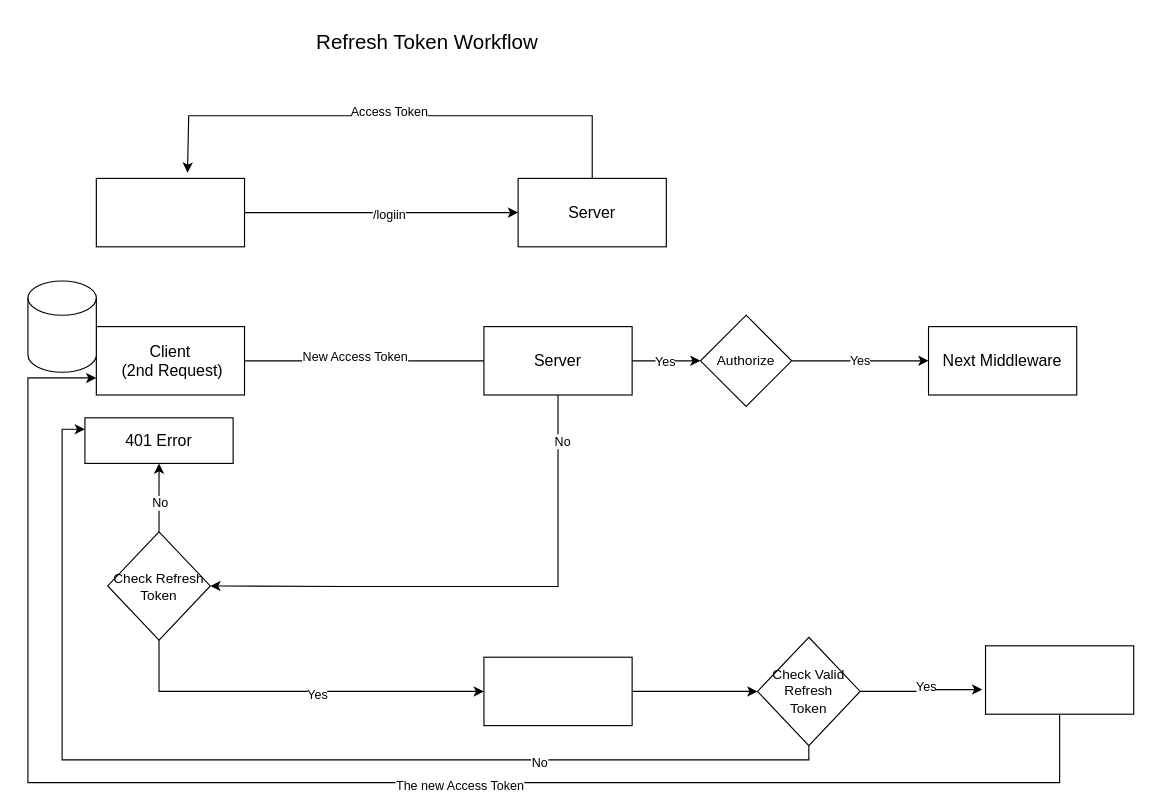
This 1154x812 diagram has some shape labels left out. The centre of each missing label's shape, as x and y in pixels:
Access Refresh: the point at 61,326
Client (1st Request): the point at 170,212
Generate a new Access Token: the point at 1059,679
Server /refresh: the point at 557,691
